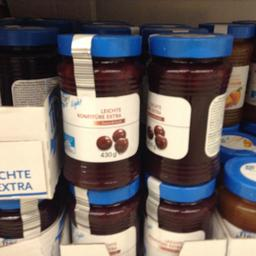jam: (56, 31, 141, 186), (146, 30, 231, 180), (142, 174, 220, 252), (66, 180, 142, 254)
